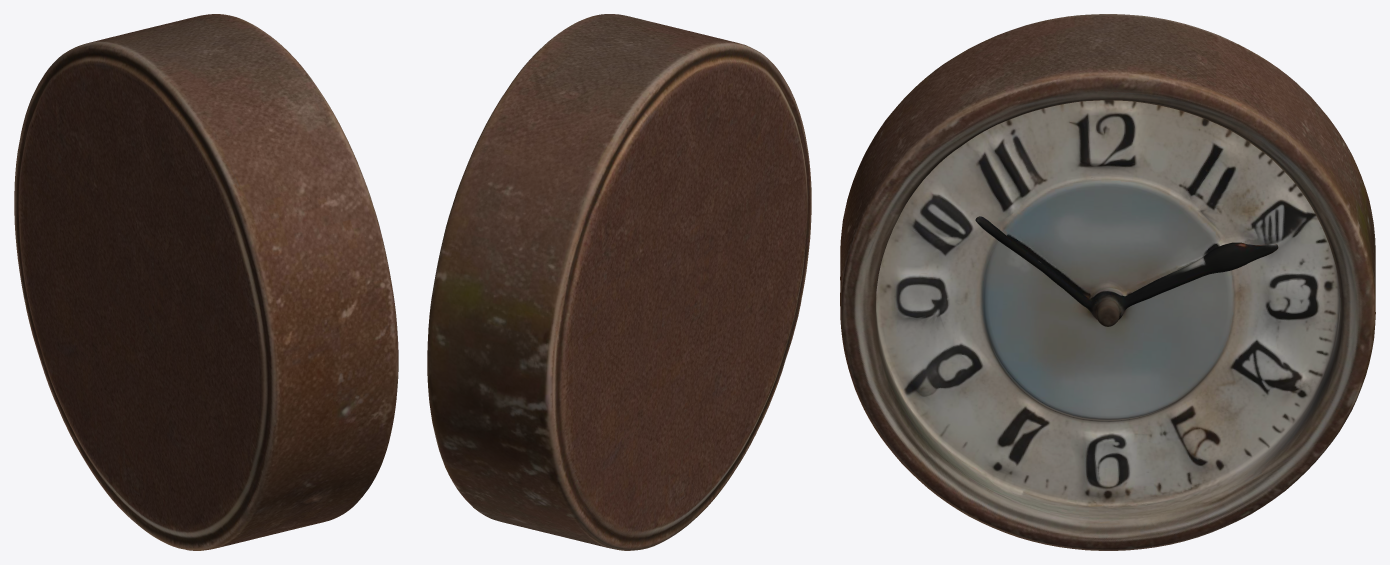
The picture shows the model from 3 angles, left to right: view 1: azimuth 30°, elevation 25°; view 2: azimuth 150°, elevation 25°; view 3: azimuth 270°, elevation 25°; orthographic projection.
Visible parts, largest first — view 1: tripo_node_bfcd55e5-986d-453d-b1c1-b2550f995718; view 2: tripo_node_bfcd55e5-986d-453d-b1c1-b2550f995718; view 3: tripo_node_bfcd55e5-986d-453d-b1c1-b2550f995718.
Boxes of the visible parts, x1,y1,x2,y2 form: tripo_node_bfcd55e5-986d-453d-b1c1-b2550f995718: (14, 14, 398, 550); tripo_node_bfcd55e5-986d-453d-b1c1-b2550f995718: (427, 14, 811, 550); tripo_node_bfcd55e5-986d-453d-b1c1-b2550f995718: (840, 14, 1375, 550).
Size of the model in its own units: 0.2742 by 0.9366 by 0.9492.
1 material, 1 textured.
